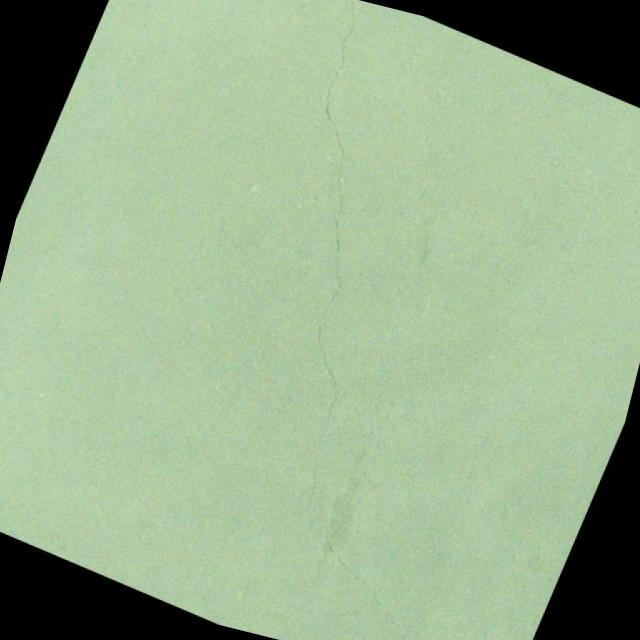crack: (149, 0, 512, 531), (254, 478, 483, 640)
